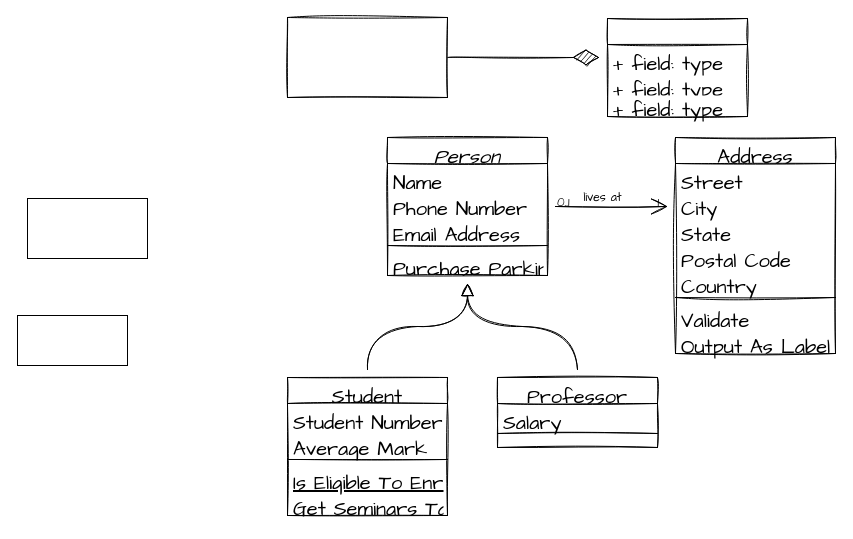
This 853x539 diagram has some shape labels left out. Each missing label, with the box of its shape:
Classname: (606, 18, 748, 116)
«interface» Name: (16, 314, 128, 366)
